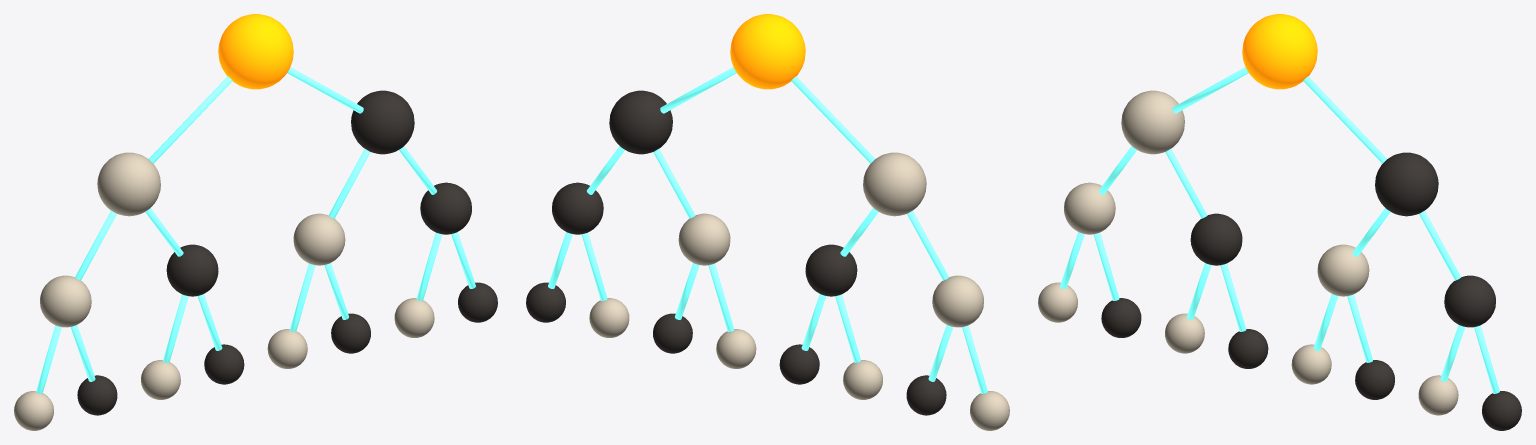
The model's file is heap.glb.
3 renders of one model, left to right at view 1: azimuth 30°, elevation 25°; view 2: azimuth 150°, elevation 25°; view 3: azimuth 330°, elevation 25°, orthographic.
Visible parts, largest first — view 1: N0, N1, N2, N3, N5, N4, N6, N11, N13, N9, N7, N8 (+12 smaller); view 2: N0, N1, N2, N3, N5, N4, N6, N11, N13, N9, N7, N8 (+12 smaller); view 3: N0, N2, N1, N4, N6, N5, N3, N10, N8, N12, N14, N13 (+12 smaller).
Part boxes in pixels (x1,y1,x2,y2): N0: [218, 14, 293, 89]; N1: [97, 152, 160, 216]; N2: [351, 90, 414, 154]; N3: [40, 275, 91, 327]; N5: [293, 213, 345, 265]; N4: [166, 244, 218, 296]; N6: [420, 182, 471, 234]; N11: [267, 329, 307, 368]; N13: [394, 298, 434, 337]; N9: [141, 360, 180, 399]; N7: [14, 391, 53, 430]; N8: [77, 375, 117, 415]; N0: [730, 14, 805, 89]; N1: [863, 152, 926, 216]; N2: [609, 90, 672, 154]; N3: [932, 275, 983, 327]; N5: [678, 213, 730, 265]; N4: [805, 244, 857, 296]; N6: [552, 182, 603, 234]; N11: [716, 329, 756, 368]; N13: [589, 298, 629, 337]; N9: [843, 360, 882, 399]; N7: [970, 391, 1009, 430]; N8: [906, 375, 946, 415]; N0: [1242, 14, 1317, 89]; N2: [1375, 152, 1438, 216]; N1: [1121, 90, 1184, 154]; N4: [1190, 213, 1242, 265]; N6: [1444, 275, 1495, 327]; N5: [1317, 244, 1369, 296]; N3: [1064, 182, 1115, 234]; N10: [1228, 329, 1268, 368]; N8: [1101, 298, 1141, 337]; N12: [1355, 360, 1394, 399]; N14: [1482, 391, 1521, 430]; N13: [1418, 375, 1458, 415].
Bounding box in the file's own units: 4.68 × 3.34 × 0.64.
